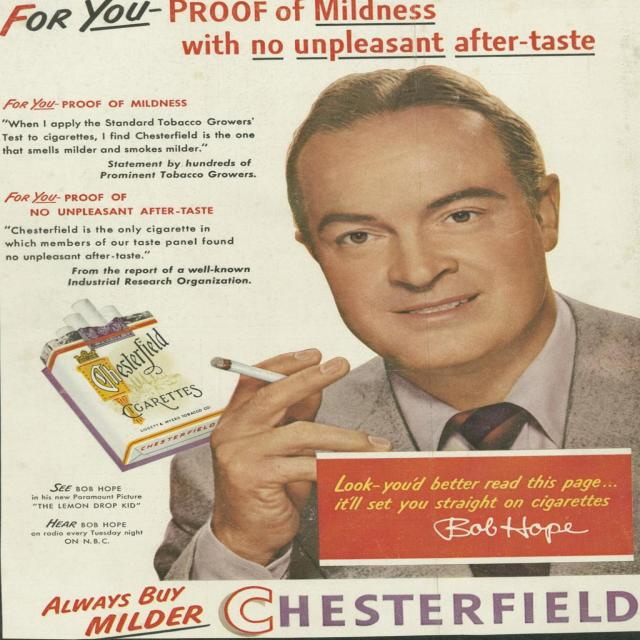smoking: (185, 61, 577, 436)
